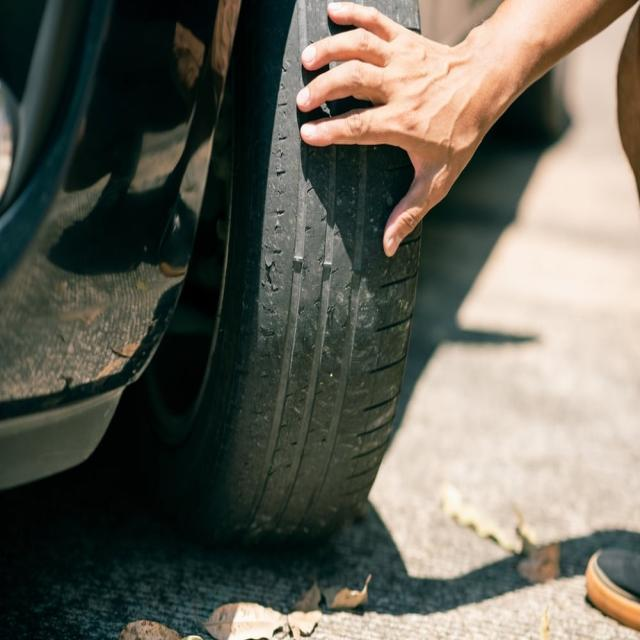Flat spots: (210, 197, 385, 550)
